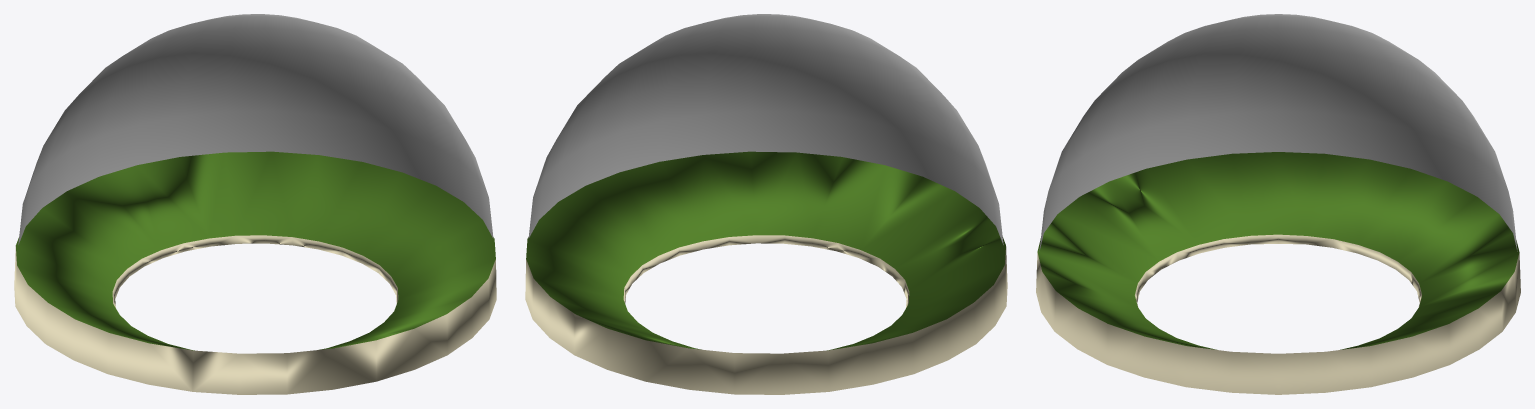
File: Land.gltf
3 renders of one model, left to right at view 1: azimuth 30°, elevation 25°; view 2: azimuth 150°, elevation 25°; view 3: azimuth 270°, elevation 25°, orthographic.
Visible parts, largest first — view 1: CircleGround, SkyDome; view 2: CircleGround, SkyDome; view 3: CircleGround, SkyDome.
Boxes of the visible parts, x1,y1,x2,y2 form: CircleGround: [14, 151, 496, 394]; SkyDome: [18, 14, 493, 244]; CircleGround: [525, 151, 1007, 394]; SkyDome: [528, 14, 1003, 244]; CircleGround: [1036, 152, 1520, 394]; SkyDome: [1039, 14, 1517, 251].
Size of the model in its own units: 6.08 by 3.7 by 6.08.
